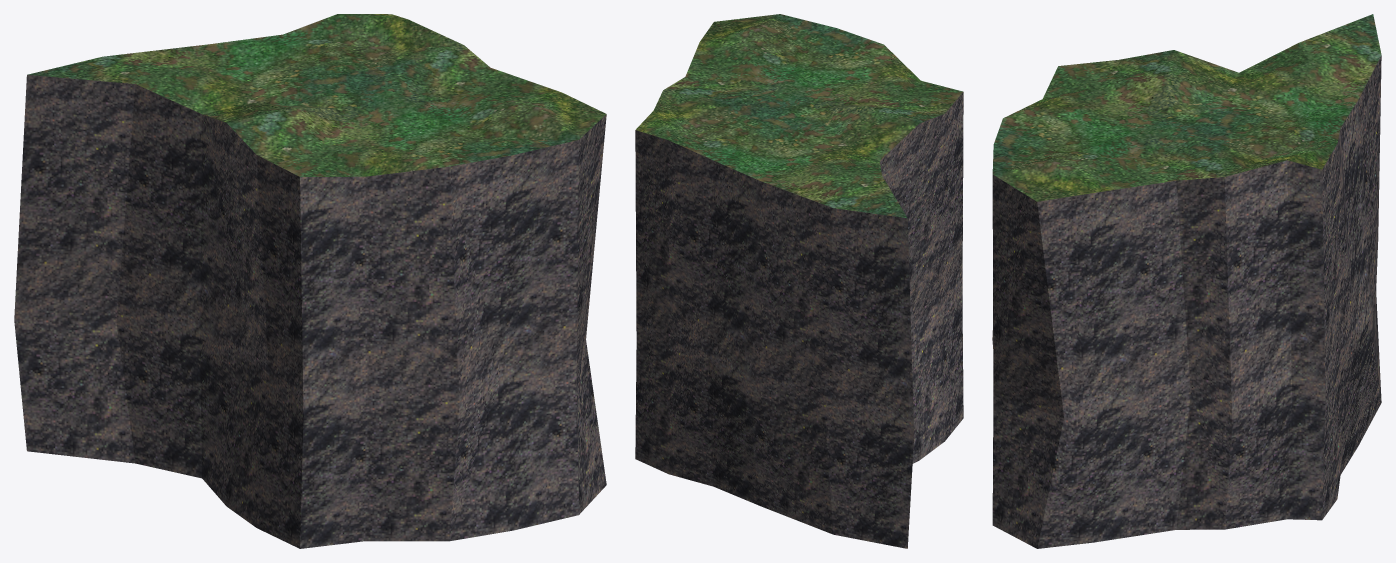
File: Plateau.glb
3 renders of one model, left to right at view 1: azimuth 30°, elevation 25°; view 2: azimuth 150°, elevation 25°; view 3: azimuth 270°, elevation 25°, orthographic. The views are drawn at different scales.
Visible parts, largest first — view 1: Plateau; view 2: Plateau; view 3: Plateau.
Boxes of the visible parts, x1,y1,x2,y2 form: Plateau: (14, 14, 606, 548); Plateau: (635, 14, 963, 548); Plateau: (992, 14, 1381, 548).
Bounding box in the file's own units: 22.89 × 20.54 × 20.11.
Materials: 2 (2 with a texture image).
